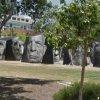Statue: (6, 25, 95, 69)
